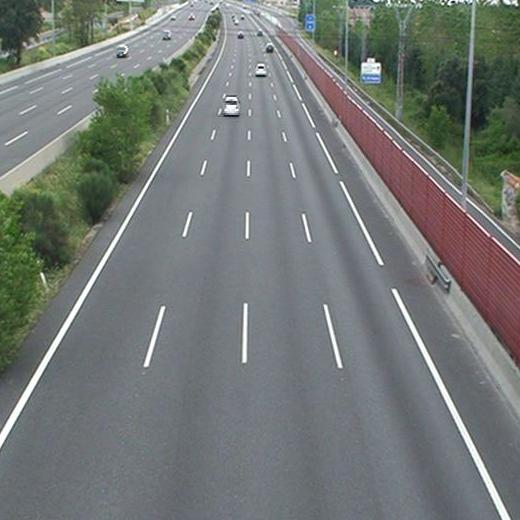car: (223, 98, 240, 114), (255, 63, 267, 75), (265, 44, 273, 52)
